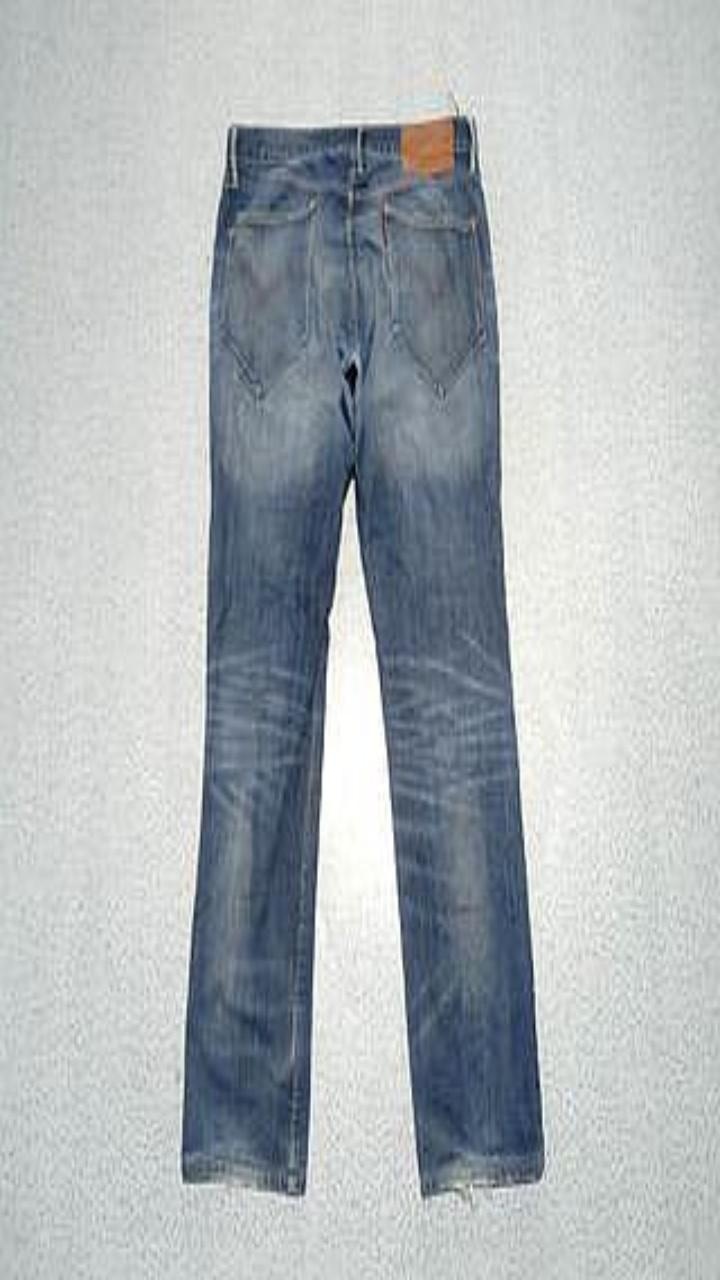Jeans: (182, 113, 543, 1196)
